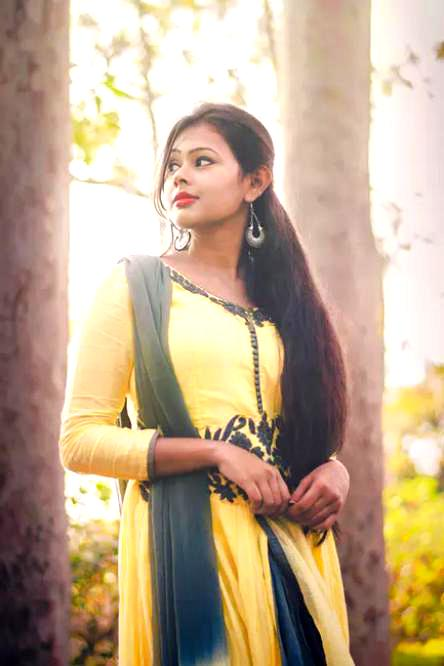face: (166, 125, 228, 229)
